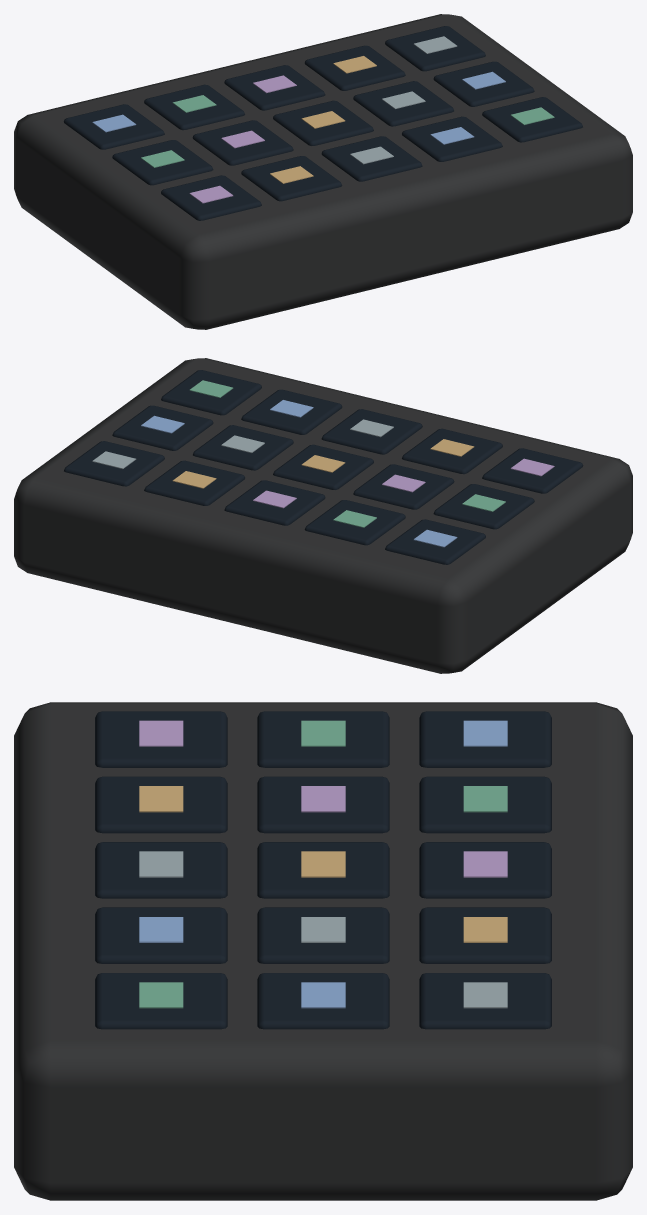
The model's file is elgato-stream-deck-mk2.glb.
3 views of the same model, one above another, from view 1: azimuth 30°, elevation 25°; view 2: azimuth 150°, elevation 25°; view 3: azimuth 270°, elevation 25° (orthographic). The views are drawn at different scales.
Visible parts, largest first — view 1: elgato-stream-deck-mk2; view 2: elgato-stream-deck-mk2; view 3: elgato-stream-deck-mk2.
Boxes of the visible parts, bbox=[...] form: elgato-stream-deck-mk2: bbox=[14, 14, 632, 329]; elgato-stream-deck-mk2: bbox=[14, 358, 632, 673]; elgato-stream-deck-mk2: bbox=[14, 702, 632, 1200].
Bounding box in the file's own units: 0.118 × 0.025 × 0.084.
